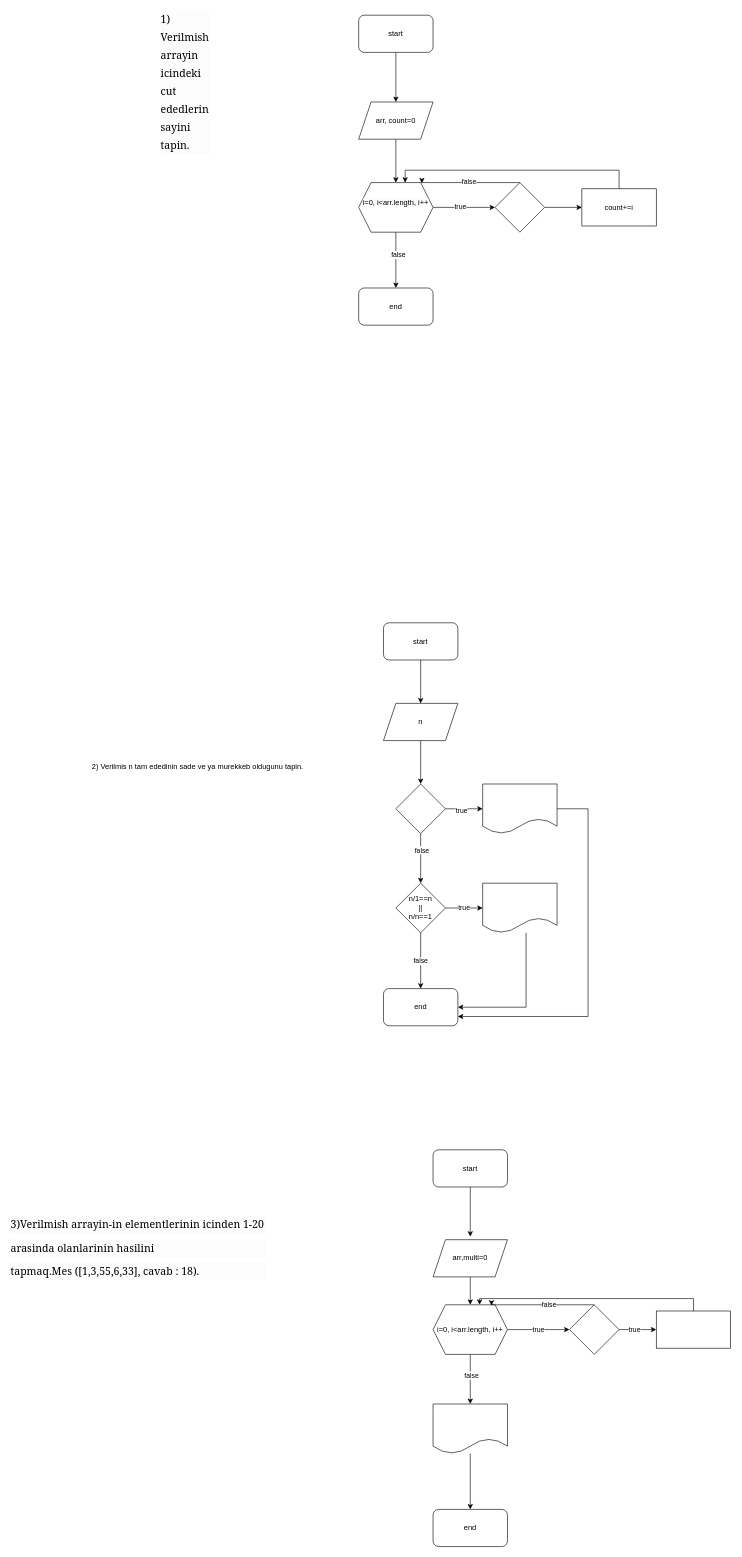
This 742x1557 diagram has some shape labels left out. Each missing label, with the centre of its shape:
i%2==0: the point at 519,207
i<20 && i>1: the point at 594,1329
multi: the point at 469,1428
multi*=i: the point at 693,1329
murekkeb: the point at 519,808
n/2==0 || n/3==0: the point at 420,808
sade: the point at 519,908
